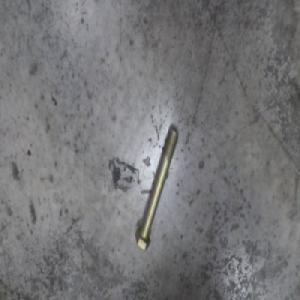Bolt: (137, 118, 180, 251)
